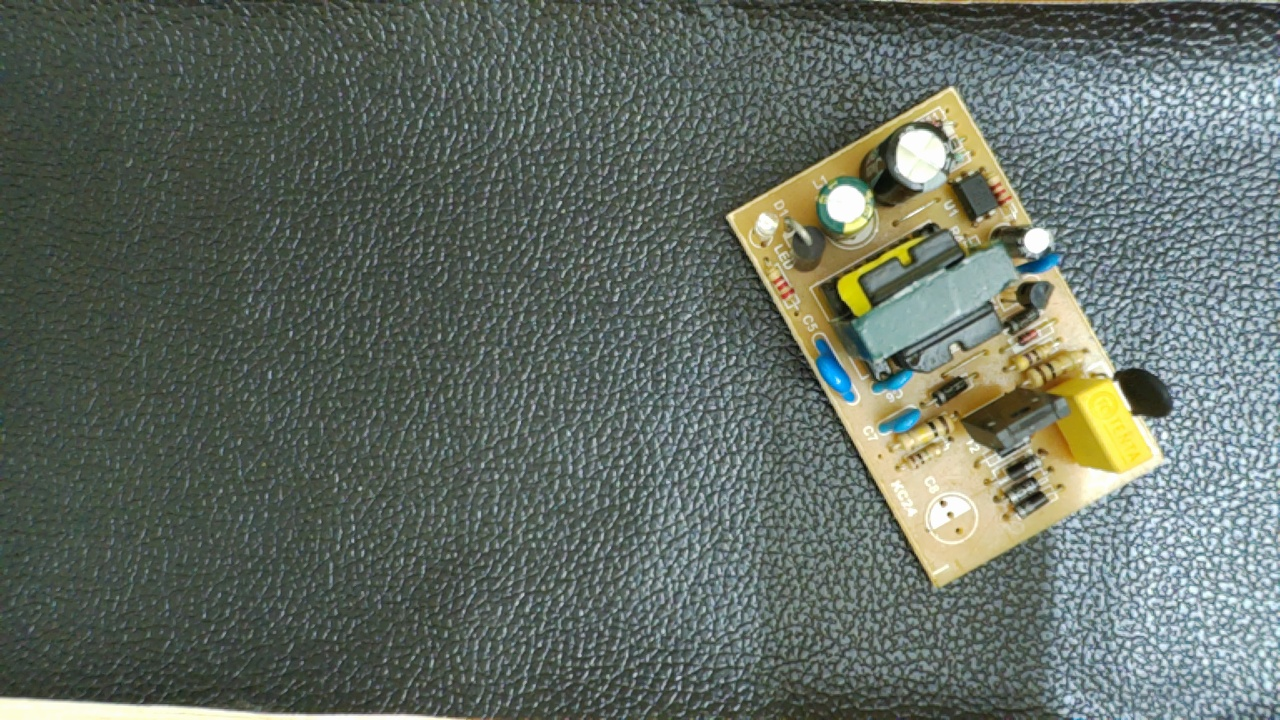fuse: (1106, 360, 1176, 420)
mov: (806, 330, 863, 407)
optocoupler: (948, 164, 1001, 228)
